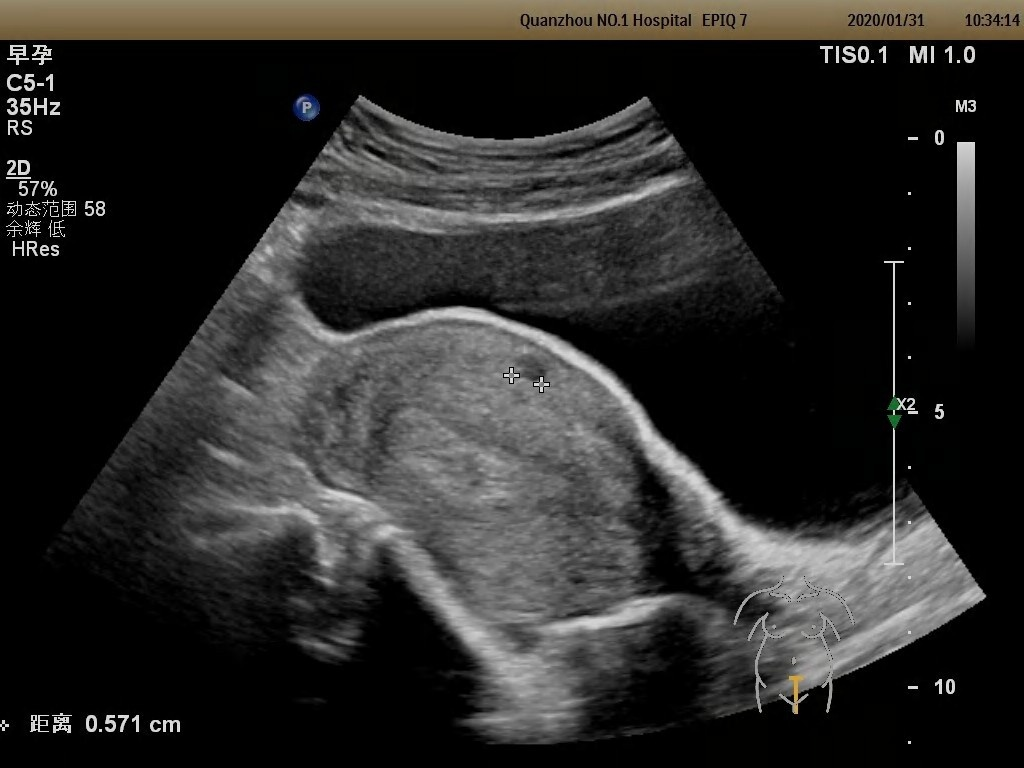肌瘤: (516, 351, 547, 383)
